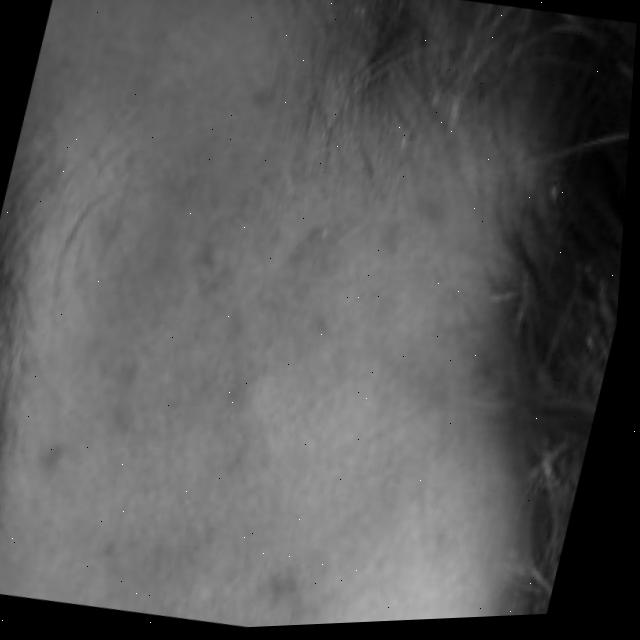Acne: (59, 60, 508, 635)
